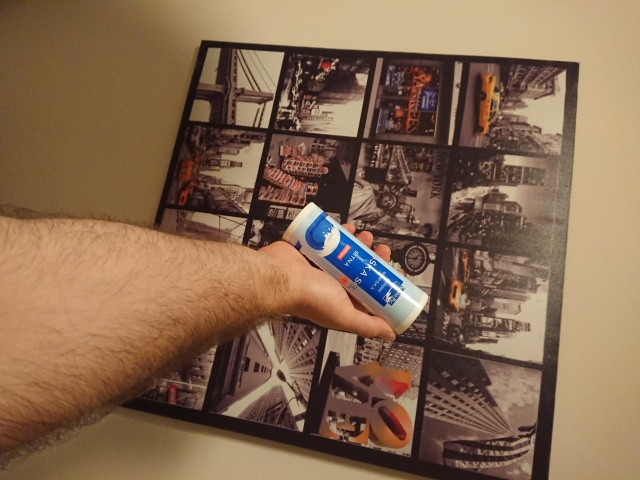Solana Pag Fine Sea Salt 250g: (279, 199, 431, 338)
